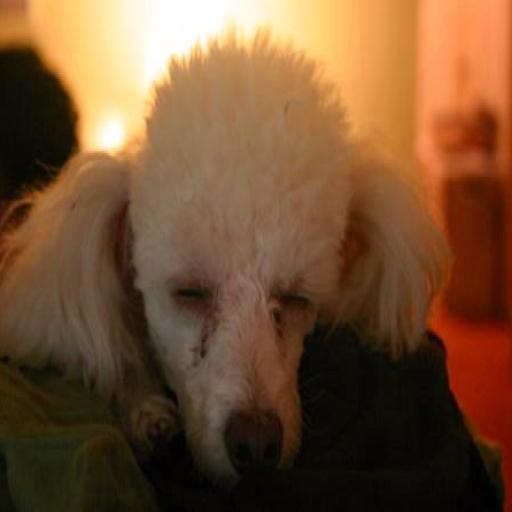dog_face: (130, 58, 321, 468)
